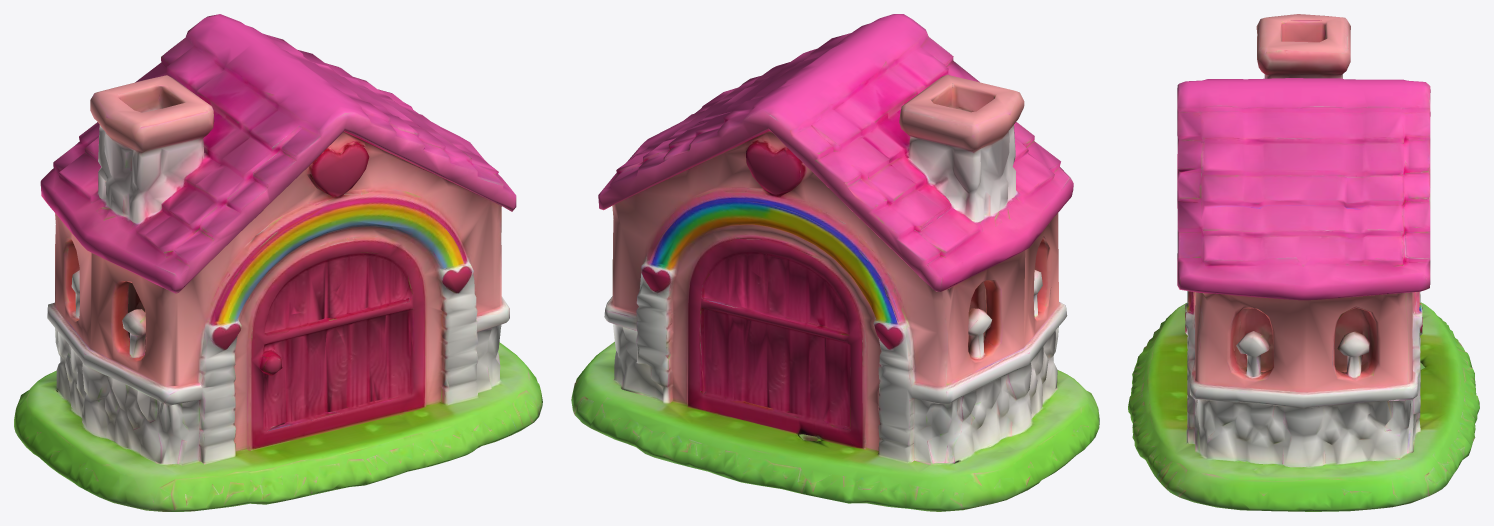
Rendered from house.glb.
3 renders of one model, left to right at view 1: azimuth 30°, elevation 25°; view 2: azimuth 150°, elevation 25°; view 3: azimuth 270°, elevation 25°, orthographic. The views are drawn at different scales.
Parts seen in each view (by area): view 1: Mesh_0; view 2: Mesh_0; view 3: Mesh_0.
Boxes of the visible parts, x1=… form: Mesh_0: x1=14, y1=14, x2=542, y2=511; Mesh_0: x1=571, y1=14, x2=1099, y2=511; Mesh_0: x1=1128, y1=14, x2=1479, y2=511.
Bounding box in the file's own units: 1.33 × 1 × 0.9677.
1 material, 1 textured.
